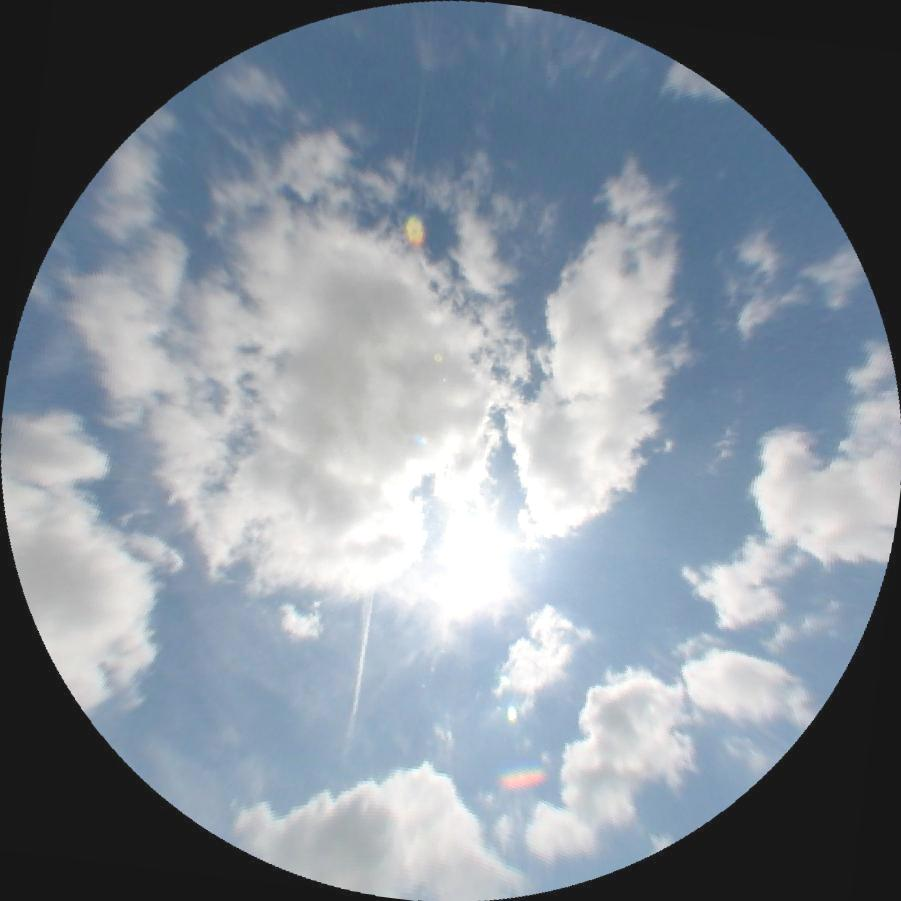contrail old: (338, 592, 375, 745), (404, 86, 425, 191)
sun: (444, 514, 519, 585)
